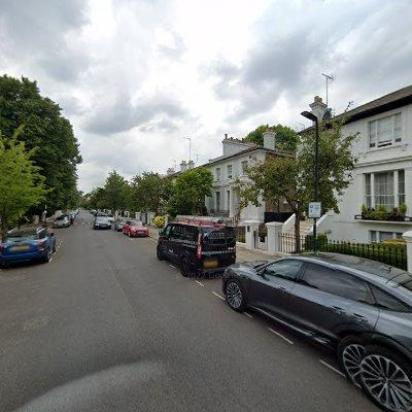moving-car: (92, 215, 112, 229)
stationary-car-onstreet: (220, 251, 410, 411), (0, 224, 58, 268), (123, 219, 150, 236), (114, 216, 132, 232), (51, 215, 72, 228), (60, 213, 74, 226), (104, 212, 116, 224)
stationary-light-truck-onstreet: (154, 214, 240, 280)
